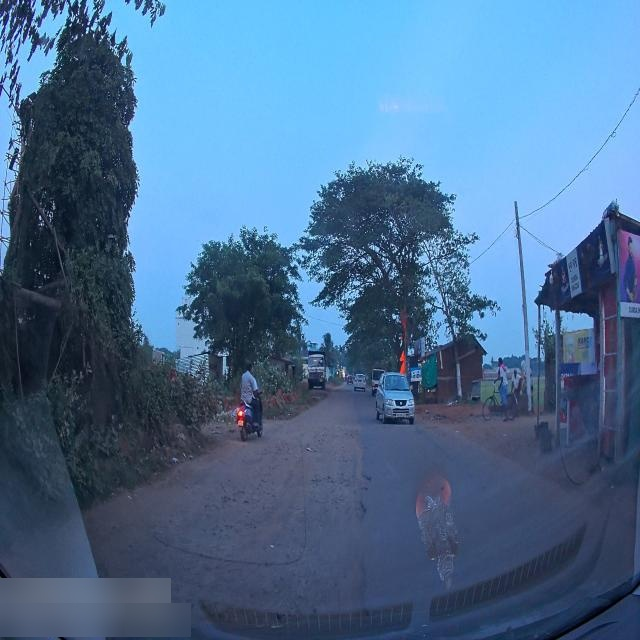pothole: (232, 467, 369, 621)
